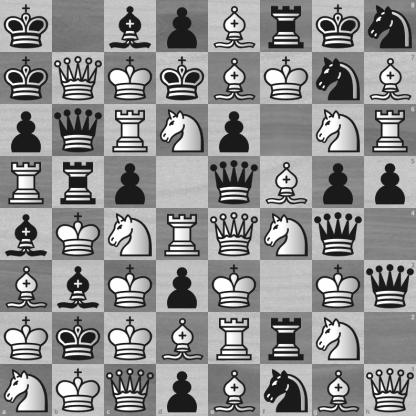B: (312, 364, 364, 416), (364, 52, 416, 104), (209, 364, 260, 416), (1, 261, 52, 312), (157, 313, 208, 364), (209, 1, 260, 52), (209, 53, 260, 104), (261, 157, 312, 208)
K: (52, 364, 104, 416), (1, 313, 52, 364), (53, 209, 104, 260), (105, 53, 156, 104), (105, 261, 156, 312), (105, 313, 156, 364), (209, 261, 260, 312), (261, 53, 312, 104), (313, 261, 364, 312)
N: (0, 364, 52, 416), (105, 209, 156, 260), (157, 105, 208, 156), (261, 209, 312, 260), (313, 105, 364, 156), (313, 313, 364, 364)
Q: (104, 364, 156, 416), (364, 364, 416, 416), (53, 53, 104, 104), (209, 209, 260, 260)
R: (364, 104, 416, 156), (1, 157, 52, 208), (105, 105, 156, 156), (157, 209, 208, 260), (209, 313, 260, 364)
b: (1, 209, 52, 260), (53, 261, 104, 312), (105, 1, 156, 52)
board: (0, 0, 415, 415)
k: (1, 1, 52, 52), (1, 53, 52, 104), (53, 313, 104, 364), (157, 53, 208, 104), (313, 1, 364, 52)
n: (260, 364, 312, 416), (364, 0, 416, 52), (313, 53, 364, 104)
p: (156, 364, 209, 416), (364, 156, 416, 209), (1, 105, 52, 156), (105, 157, 156, 208), (157, 1, 208, 52), (157, 261, 208, 312), (209, 105, 260, 156), (313, 157, 364, 208)
q: (364, 260, 416, 312), (53, 105, 104, 156), (209, 157, 260, 208), (313, 209, 364, 260)
r: (53, 157, 104, 208), (261, 1, 312, 52), (261, 313, 312, 364)
